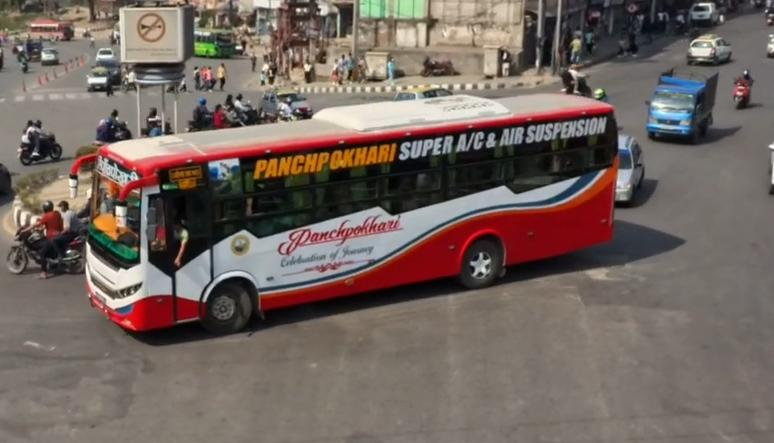bus: (77, 80, 630, 326)
taxi: (686, 33, 734, 67)
